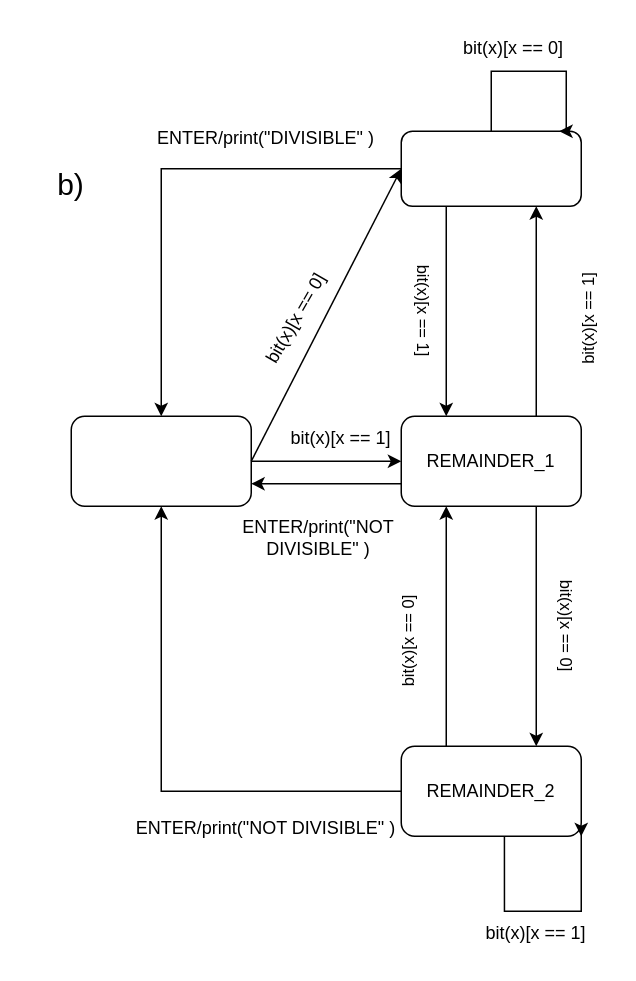
Some shapes in this 636 by 981 pixel diagram are drawn without their labels. The shapes that lost their labels are listed below. From the top down, each one's centre as x and y in pixels, then its label:
At point 490,168: "REMAINDER_0".
At point 160,460: "IDLE".
